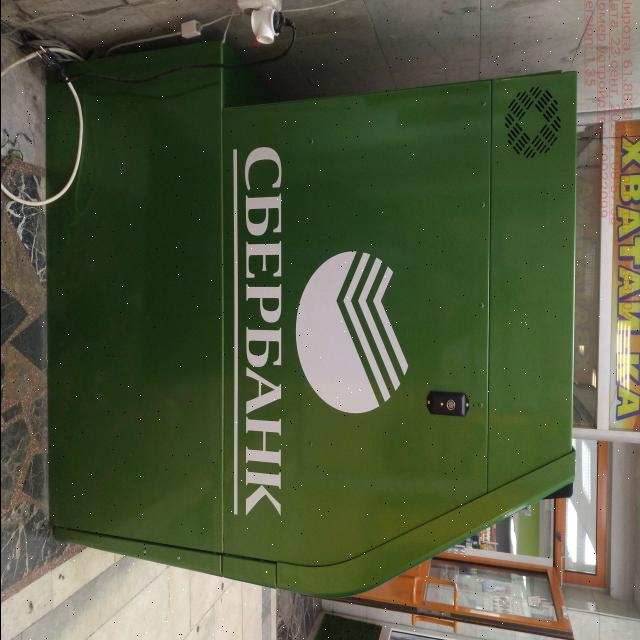bank: (45, 12, 578, 600)
